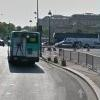Bus: (7, 25, 46, 69)
